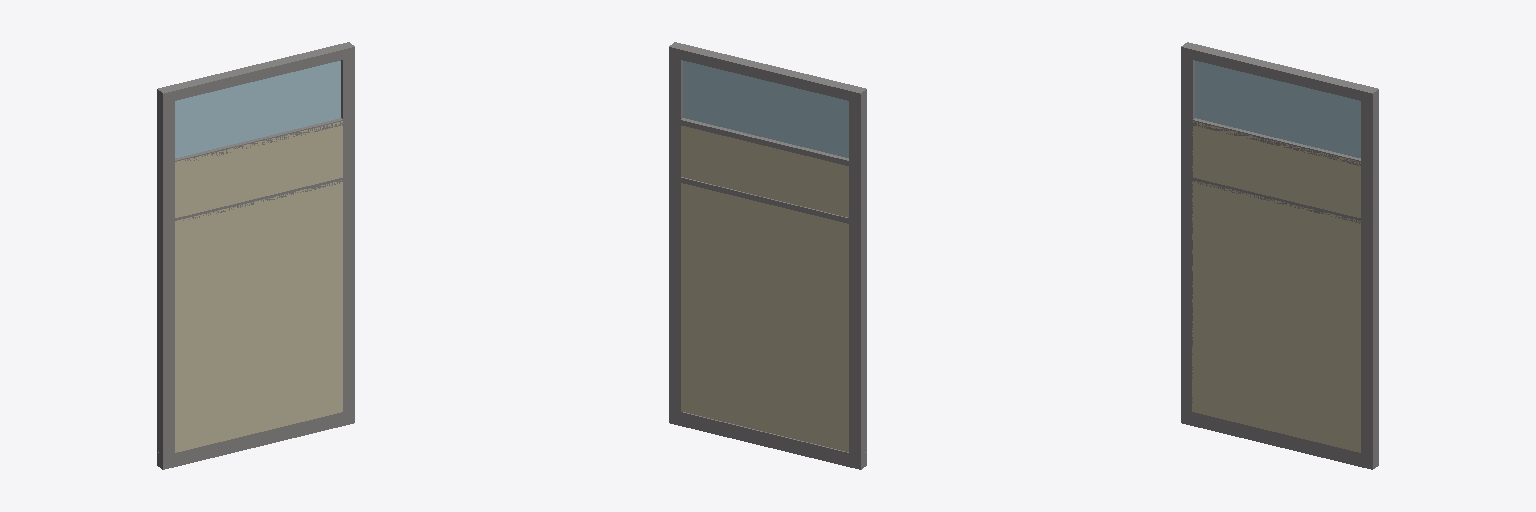
The model's file is Cubicle.obj.
The picture shows the model from 3 angles: view 1: azimuth 30°, elevation 25°; view 2: azimuth 150°, elevation 25°; view 3: azimuth 330°, elevation 25°; orthographic projection.
Visible parts, largest first — view 1: Cubicle; view 2: Cubicle; view 3: Cubicle.
Boxes of the visible parts, x1,y1,x2,y2 form: Cubicle: [157, 42, 354, 469]; Cubicle: [669, 42, 866, 469]; Cubicle: [1181, 42, 1378, 469].
Bounding box in the file's own units: 1.9 × 3.55 × 0.1125.